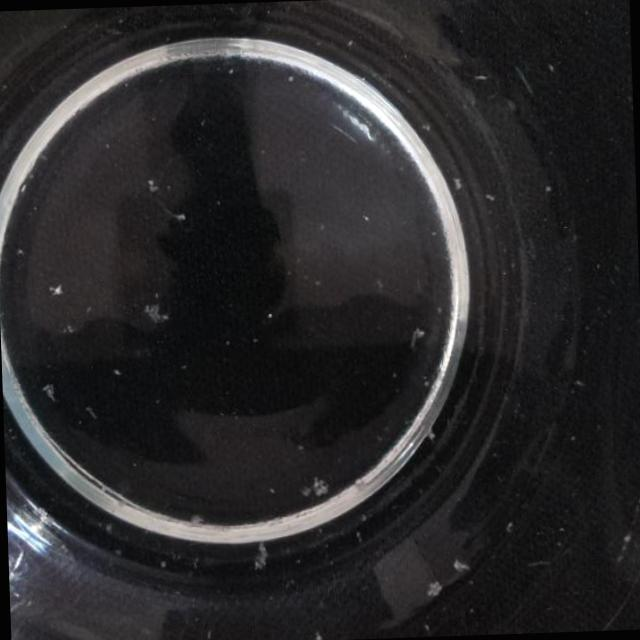fiber: (132, 298, 170, 334), (40, 270, 73, 308), (246, 536, 270, 577), (300, 470, 334, 498), (400, 322, 426, 353), (450, 551, 480, 577), (478, 180, 505, 207), (187, 501, 214, 527), (36, 378, 62, 404), (421, 578, 444, 606), (106, 360, 129, 386), (444, 170, 469, 192), (172, 206, 192, 232), (82, 398, 100, 426), (420, 118, 438, 143), (62, 318, 78, 345), (471, 68, 492, 88), (144, 171, 160, 197), (308, 627, 329, 640)
